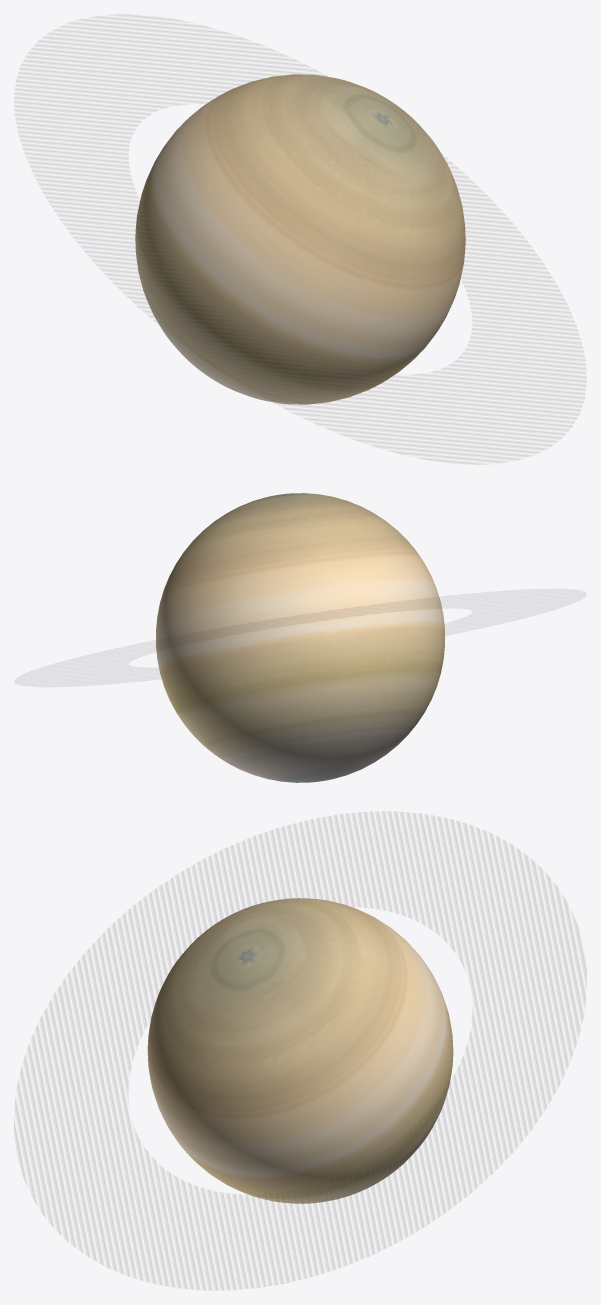
The model's file is the_universe.gltf.
3 views of the same model, one above another, from view 1: azimuth 30°, elevation 25°; view 2: azimuth 150°, elevation 25°; view 3: azimuth 270°, elevation 25° (orthographic). The views are drawn at different scales.
Visible parts, largest first — view 1: Sphere, Tube.1; view 2: Sphere; view 3: Sphere, Tube.1.
Boxes of the visible parts, left/top/right/bottom form: Sphere: left=135, top=74, right=465, bottom=404; Tube.1: left=14, top=14, right=586, bottom=464; Sphere: left=156, top=493, right=444, bottom=782; Sphere: left=147, top=898, right=453, bottom=1203; Tube.1: left=14, top=812, right=586, bottom=1289.
Size of the model in its own units: 371 by 204 by 375.
2 materials, 2 textured.
